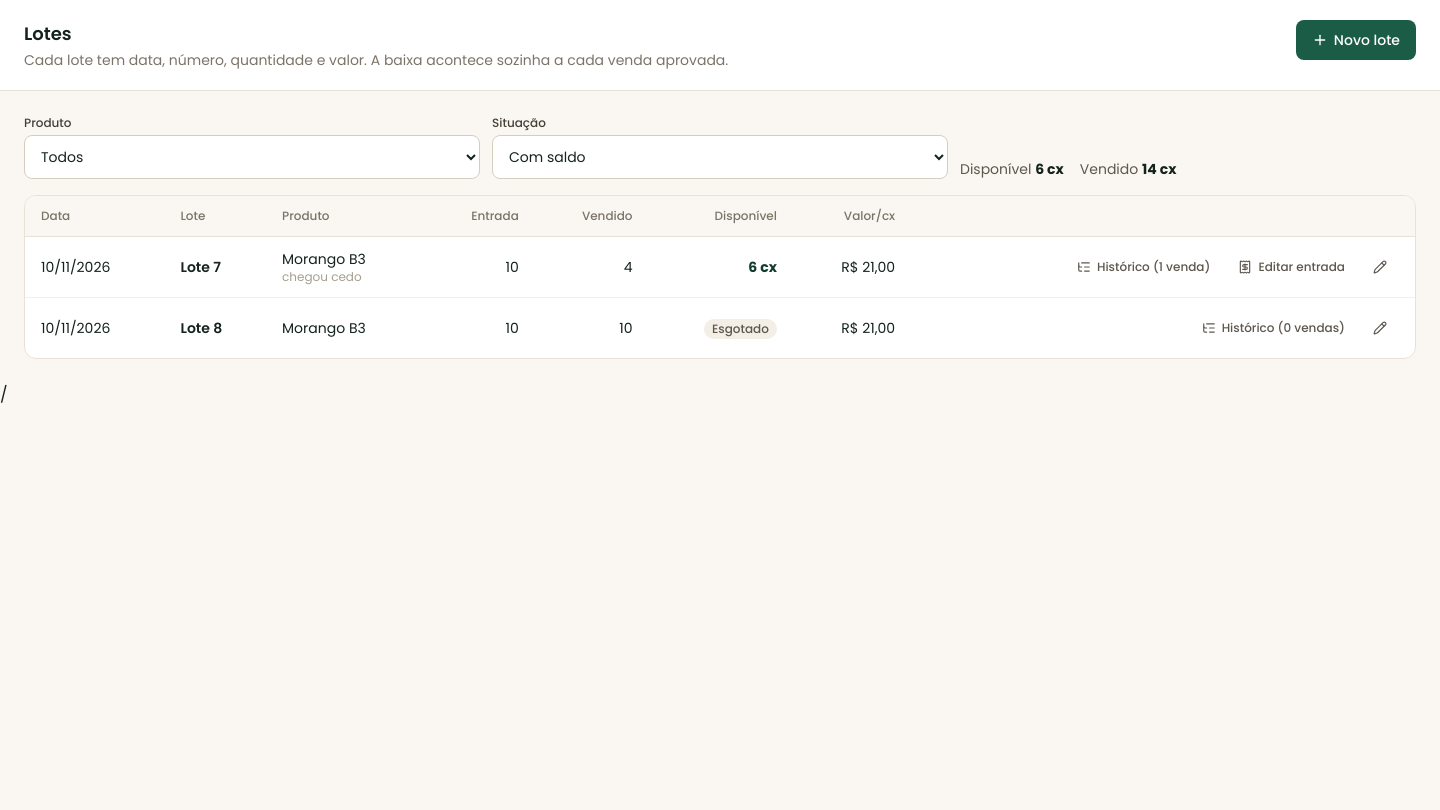
it: Lotes › abre a edição da entrada do lote
The width and height of the screenshot is (1440, 810).
Step 1. Click the button "Editar entrada" → (1292, 267), box [1226,249,1357,285]
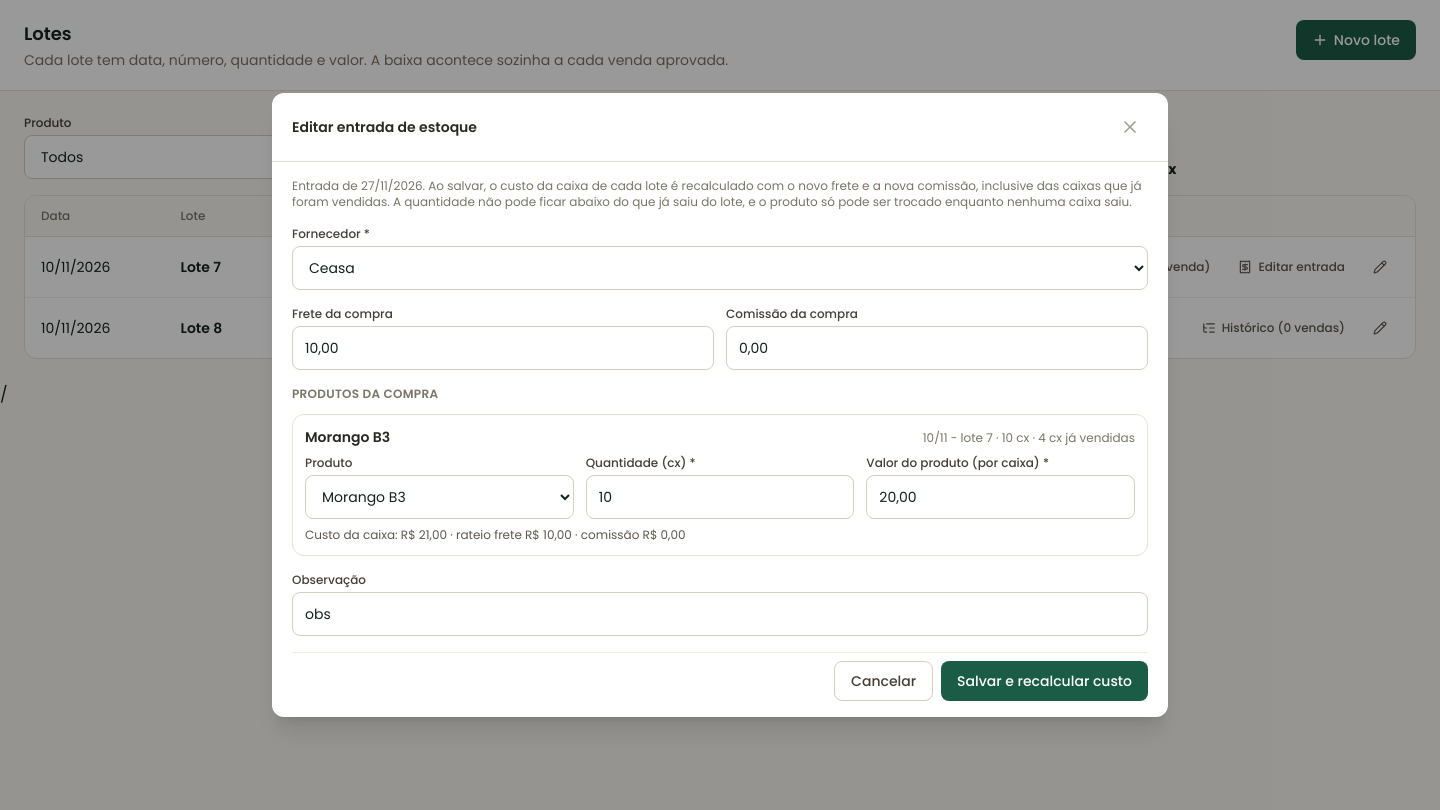
Check: the heading "Editar entrada de estoque" is shown, box [292,117,489,137]
Step 2. Click the button "Cancelar" → (884, 681), box [834,661,933,701]
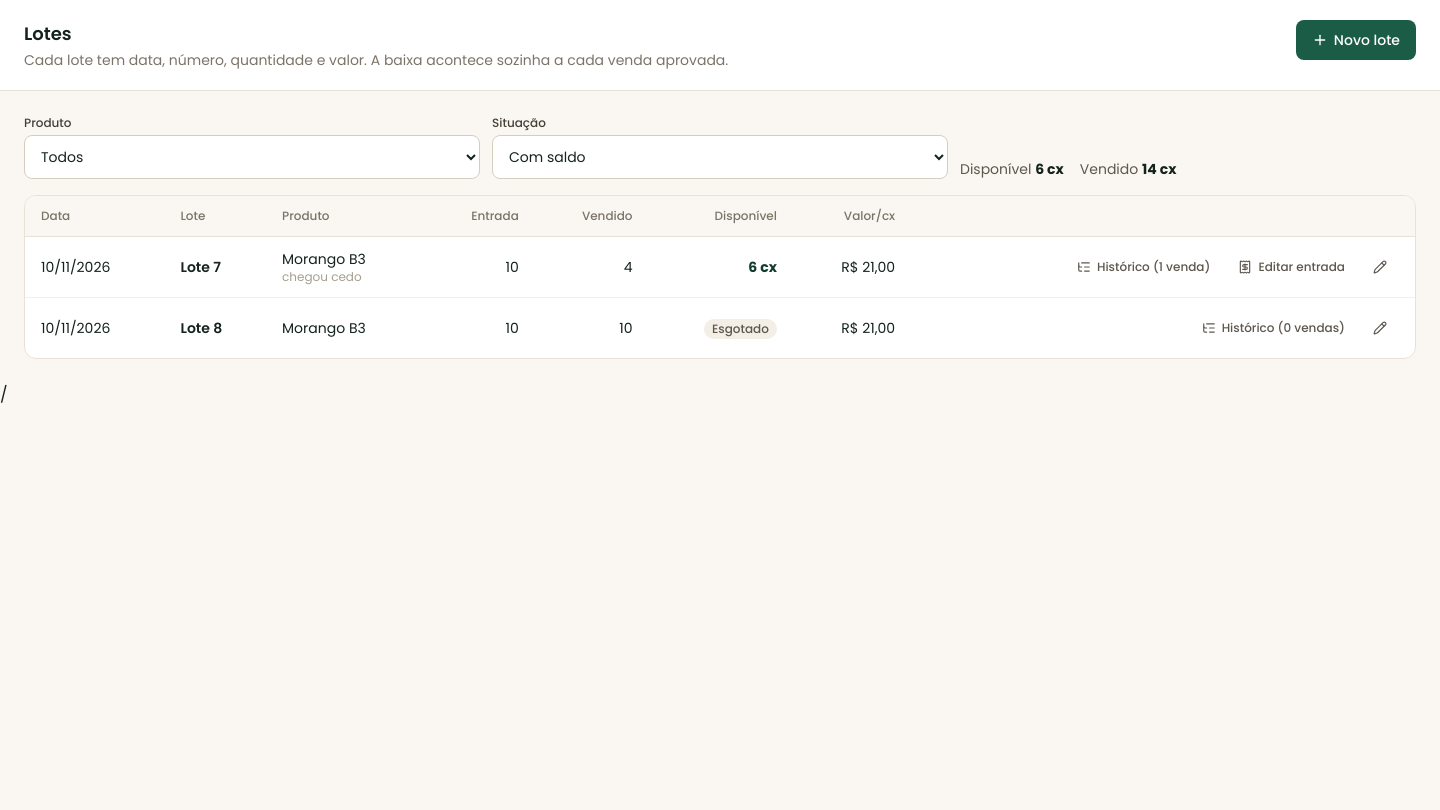
Check: the heading "Editar entrada de estoque" is gone
